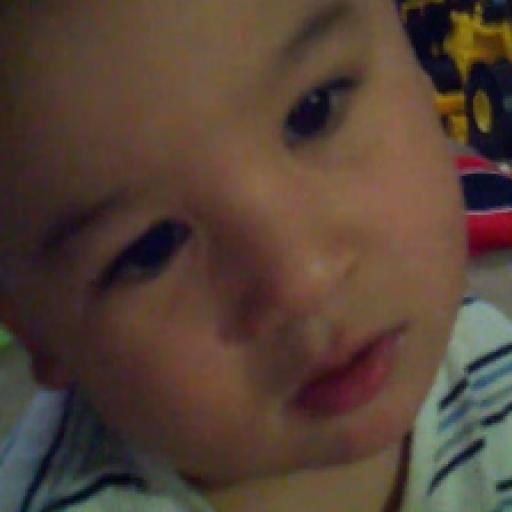Autism: (6, 1, 471, 450)
